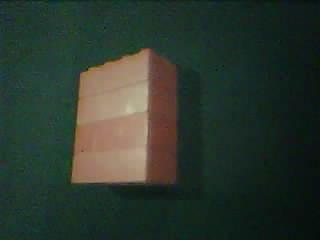lego: (67, 48, 179, 188)
